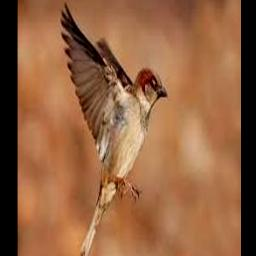Sparrow: (61, 1, 169, 256)
